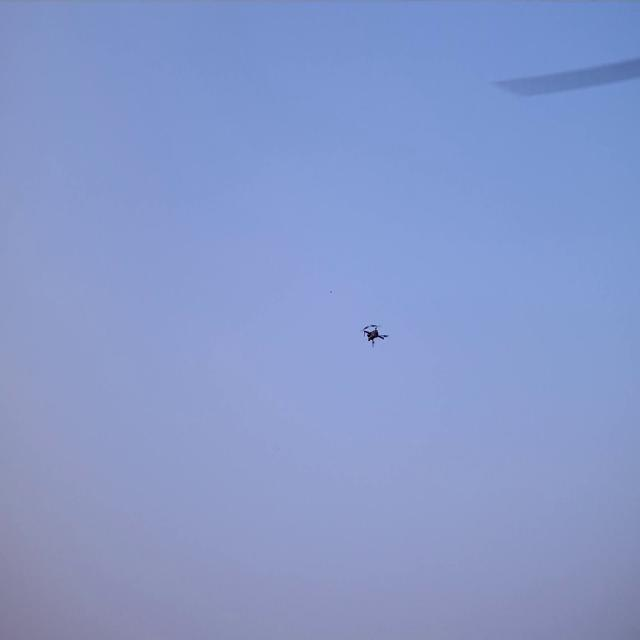UAV: (364, 325, 386, 347)
